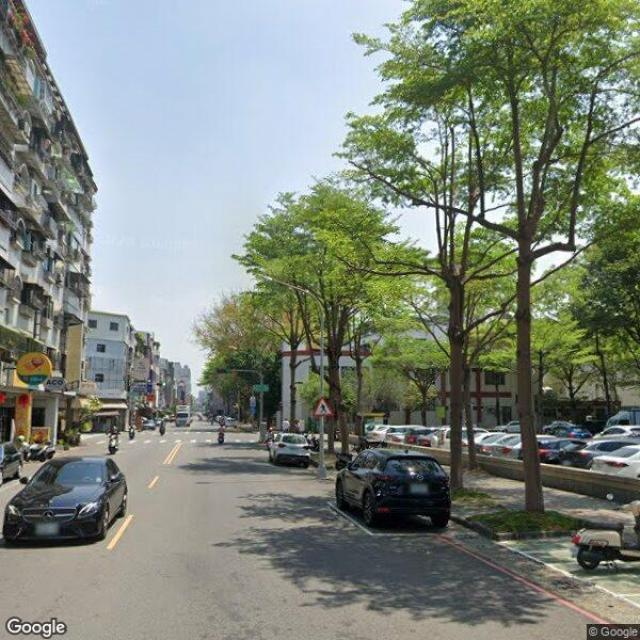Legalparking: (335, 444, 449, 527), (538, 437, 639, 478), (574, 525, 639, 569), (480, 433, 522, 459), (270, 434, 306, 463)
illegalparking: (2, 457, 126, 543)
